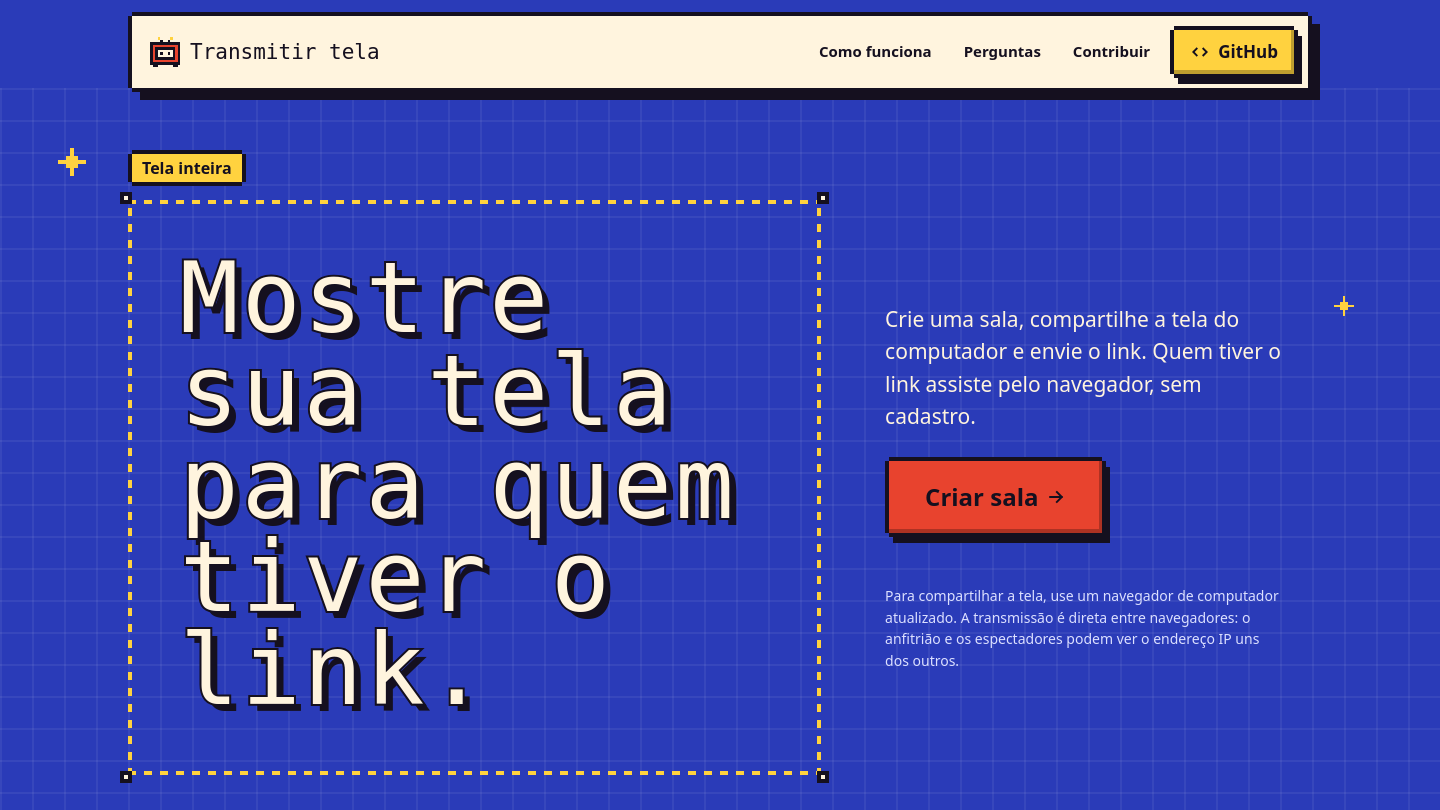
Scenario: HomePage › shows the rate limit message on 429
The width and height of the screenshot is (1440, 810).
Click the button "Criar sala".
click(996, 497)  # box [889,461,1102,533]
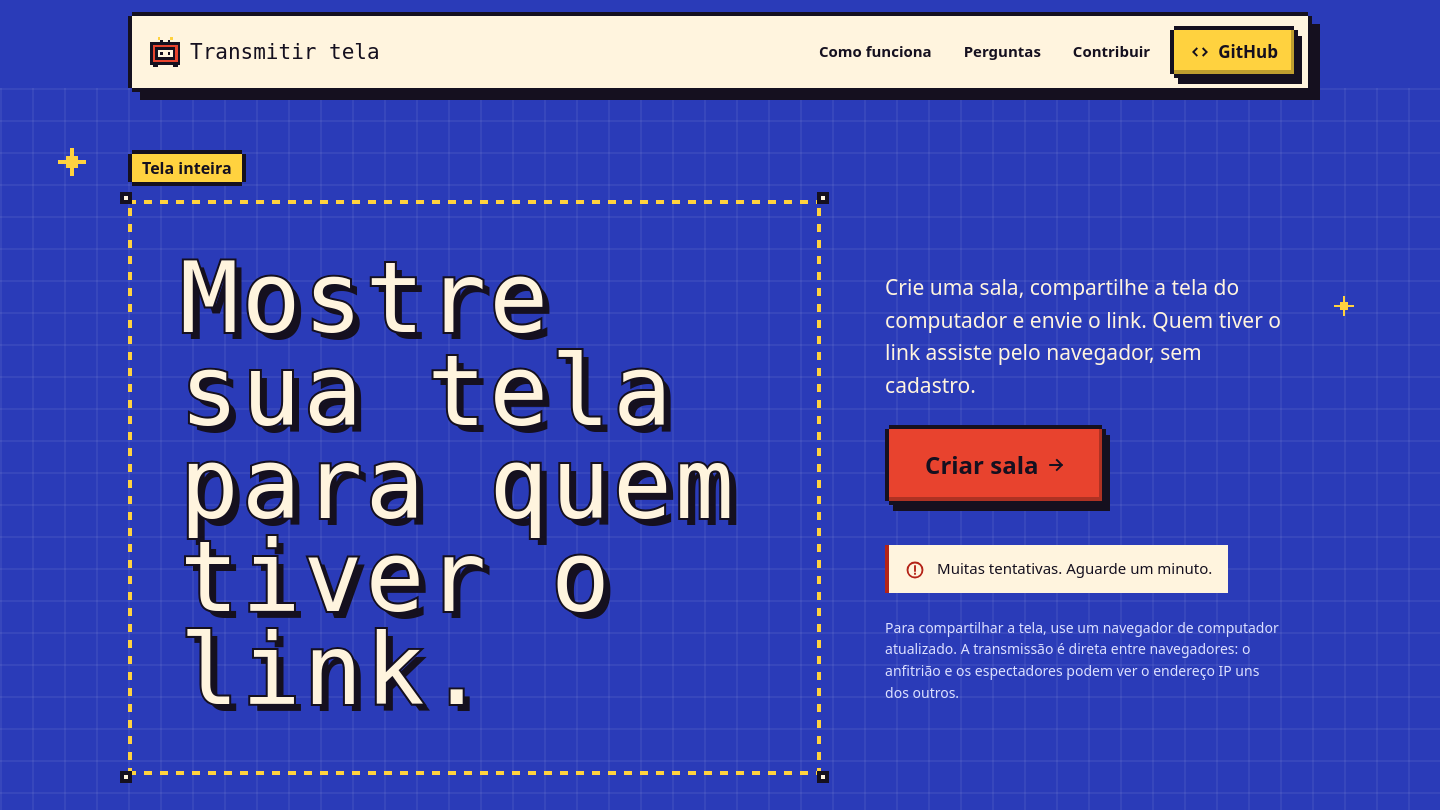
Expected: the text "Muitas tentativas. Aguarde um minuto." is shown, [937,557,1212,581]
